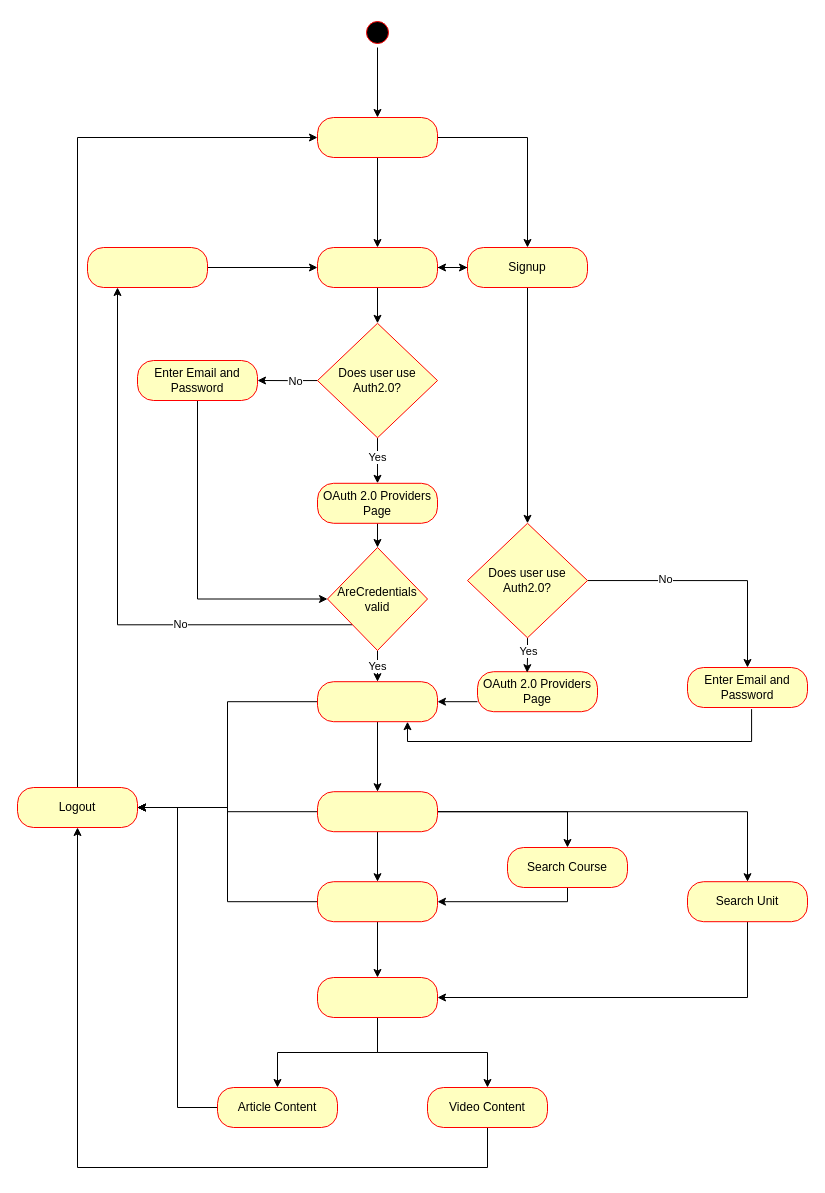
This 825x1193 diagram has some shape labels left out. The centre of each missing label's shape, as x and y in pixels:
"All Courses" goes at [377,811].
"Course Page" goes at [377,901].
"Dashboard" goes at [377,701].
"Display error message" goes at [147,267].
"Landing Page" goes at [377,137].
"Login" goes at [377,267].
"Unit Page" goes at [377,997].
